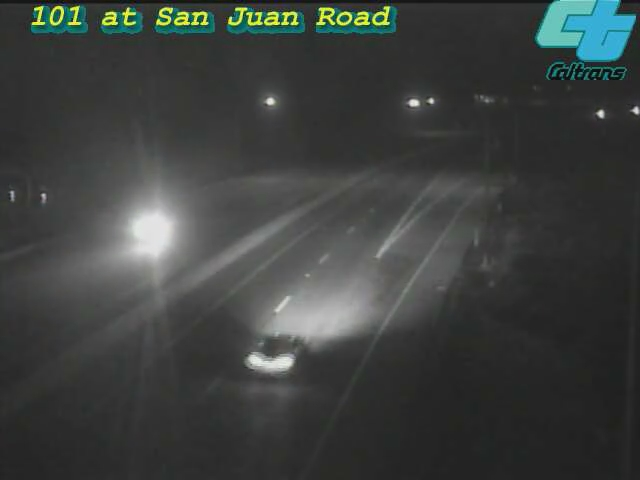vehicle: (221, 300, 331, 410), (108, 191, 188, 271), (573, 89, 623, 139), (610, 85, 640, 135)
